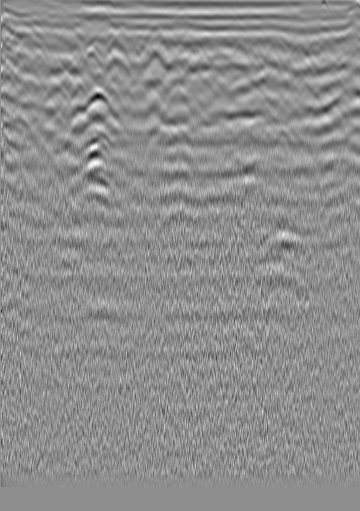가스: (75, 139, 114, 177)
상수: (303, 56, 323, 76)
오수: (15, 26, 35, 46)
우수: (167, 45, 187, 65)
